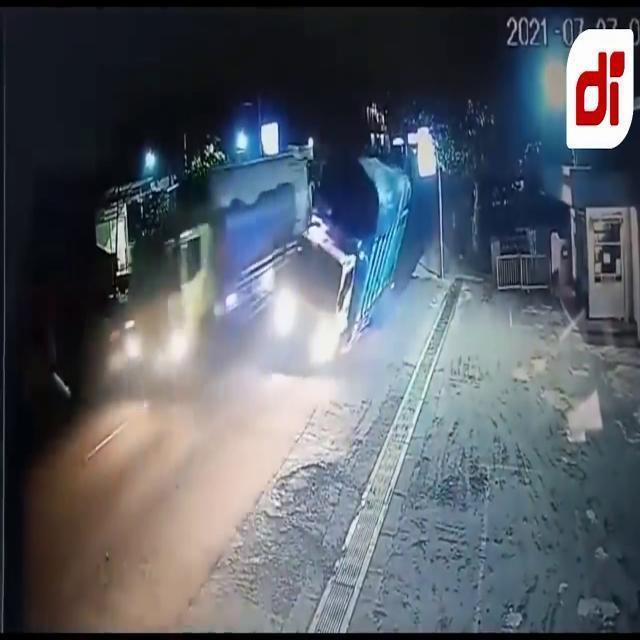accident: (122, 148, 414, 396)
